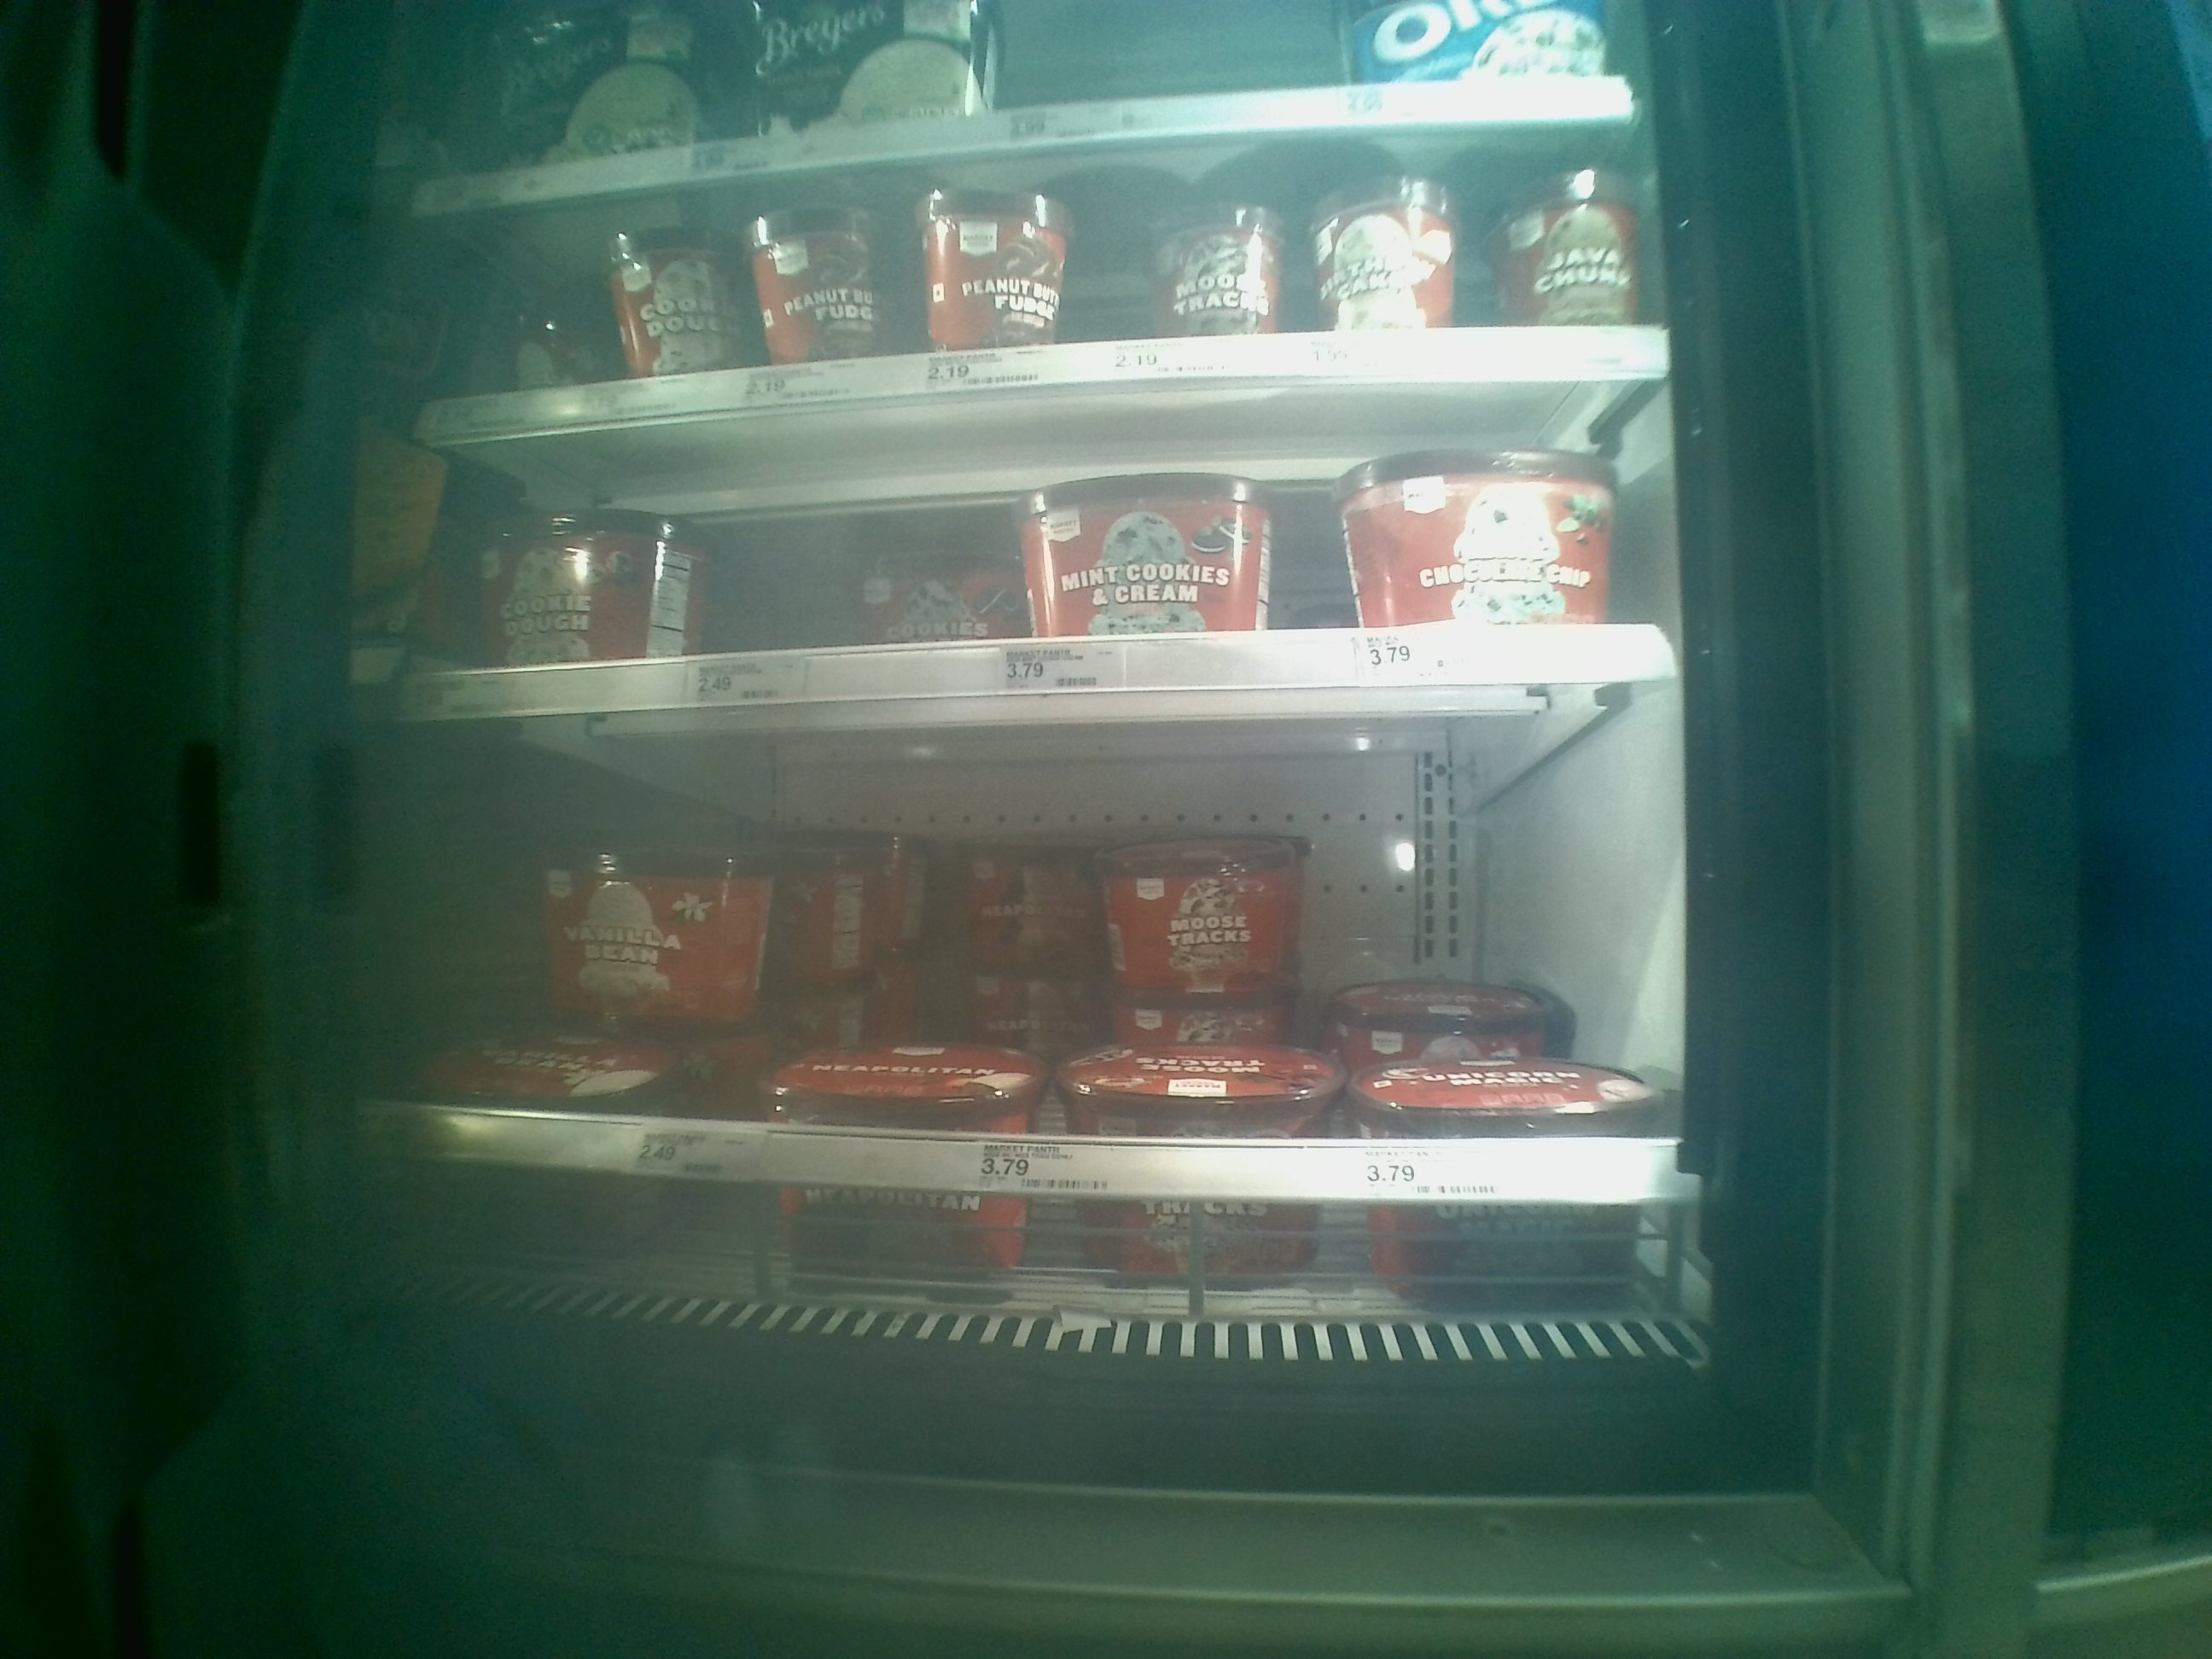shelf: (394, 721, 1702, 1211), (397, 408, 1674, 716), (415, 94, 1665, 408)
